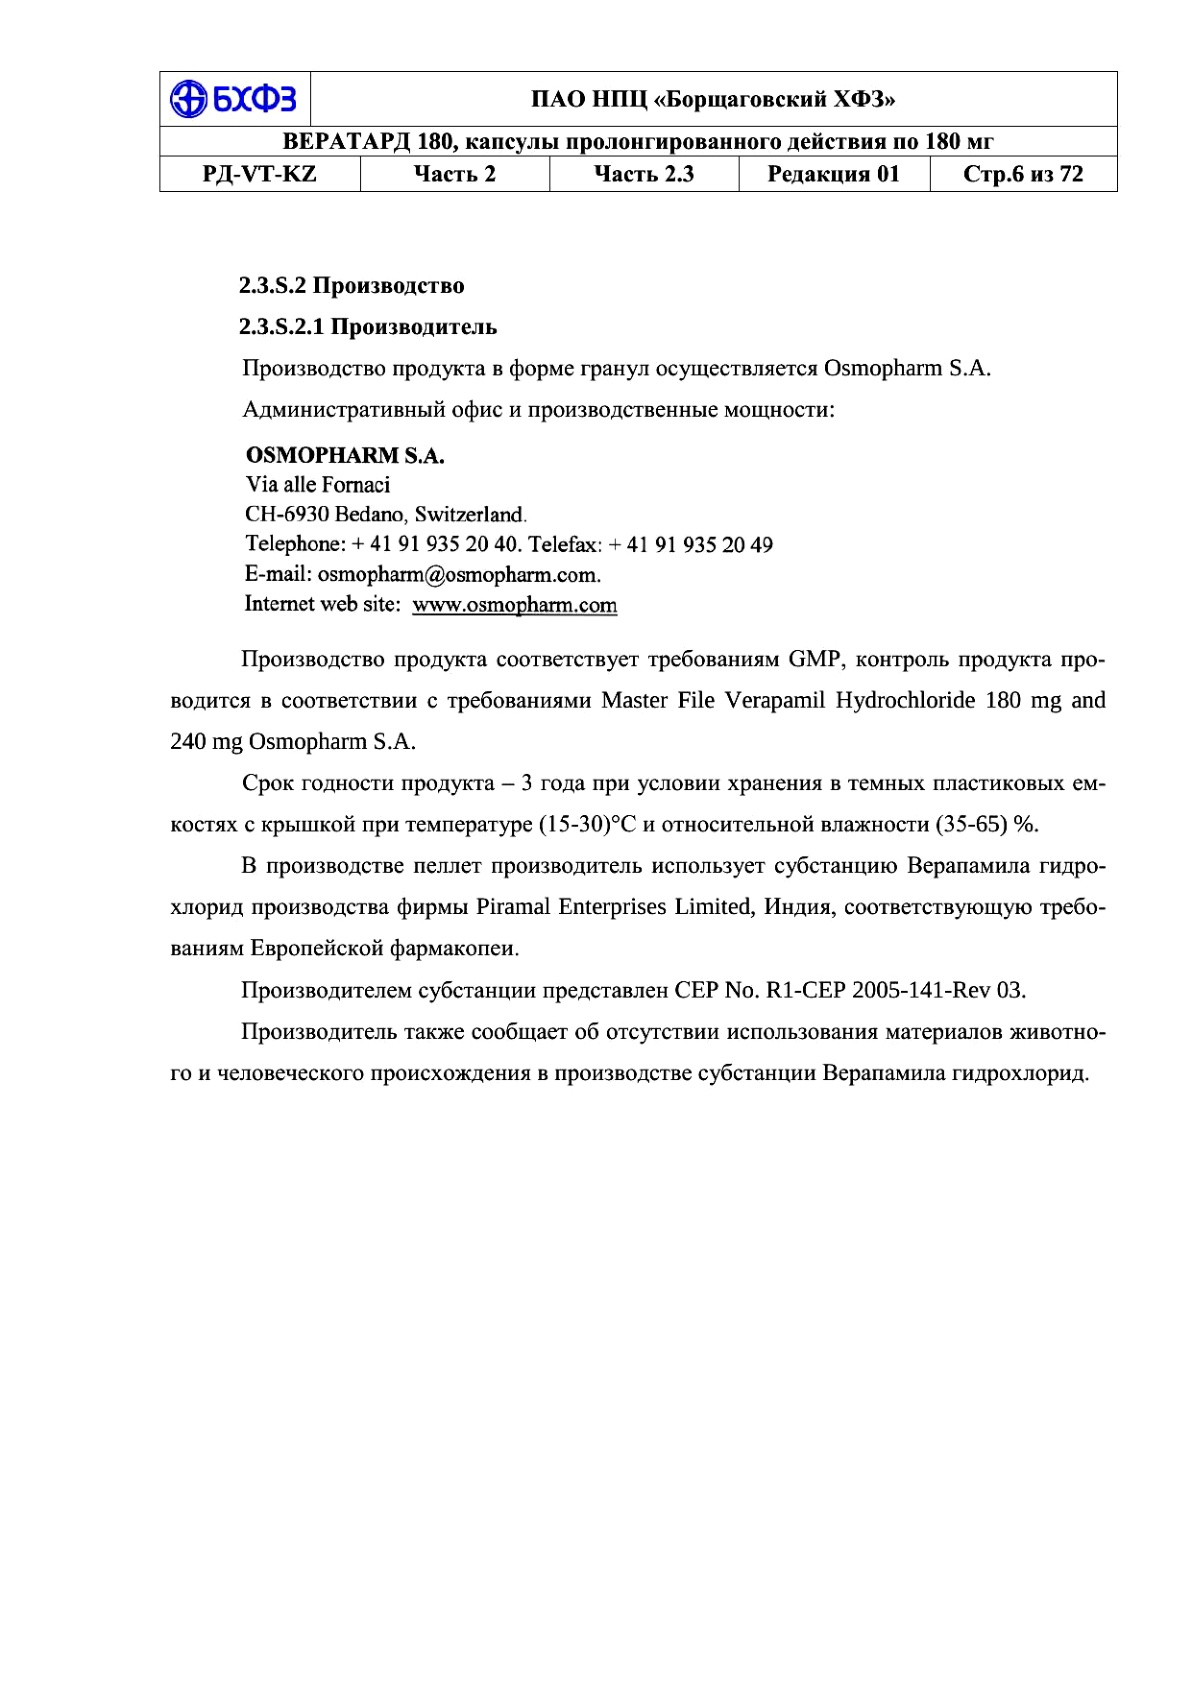merged_cells: (157, 70, 1118, 193)
